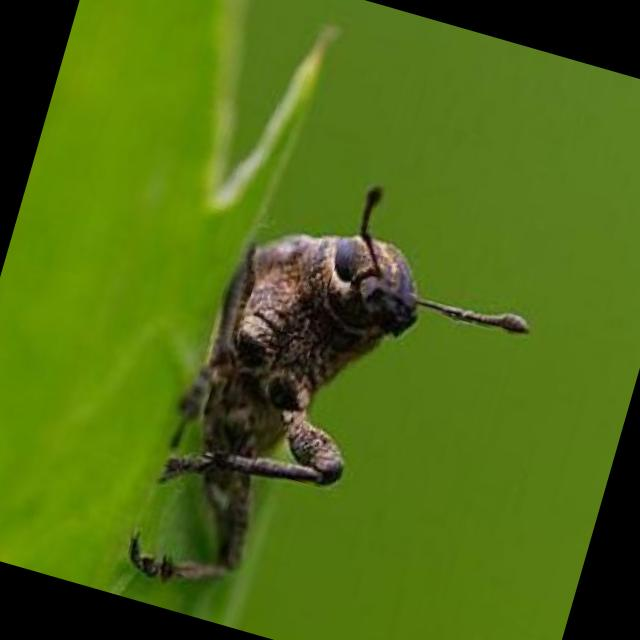rice-bug: (126, 175, 455, 628)
